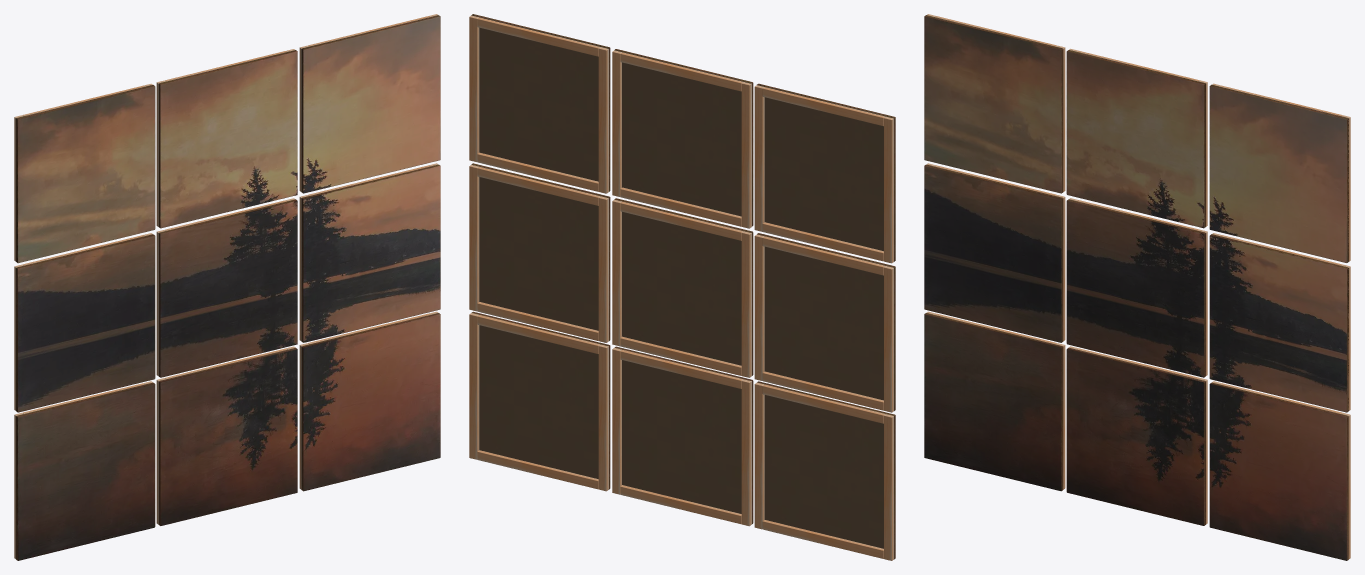
File: abo-B073P5QJ51.glb
3 views of the same model, side by side, from view 1: azimuth 30°, elevation 25°; view 2: azimuth 150°, elevation 25°; view 3: azimuth 330°, elevation 25° (orthographic).
Bounding box in the file's own units: 0.908 × 0.906 × 0.014.
Materials: 1 (1 with a texture image).
